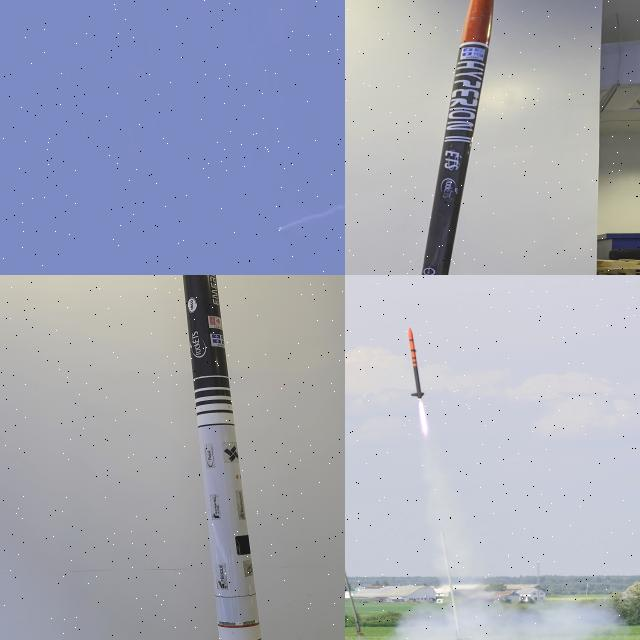Rocket: (182, 275, 262, 640), (421, 0, 494, 275), (408, 326, 425, 399), (279, 228, 280, 230)
